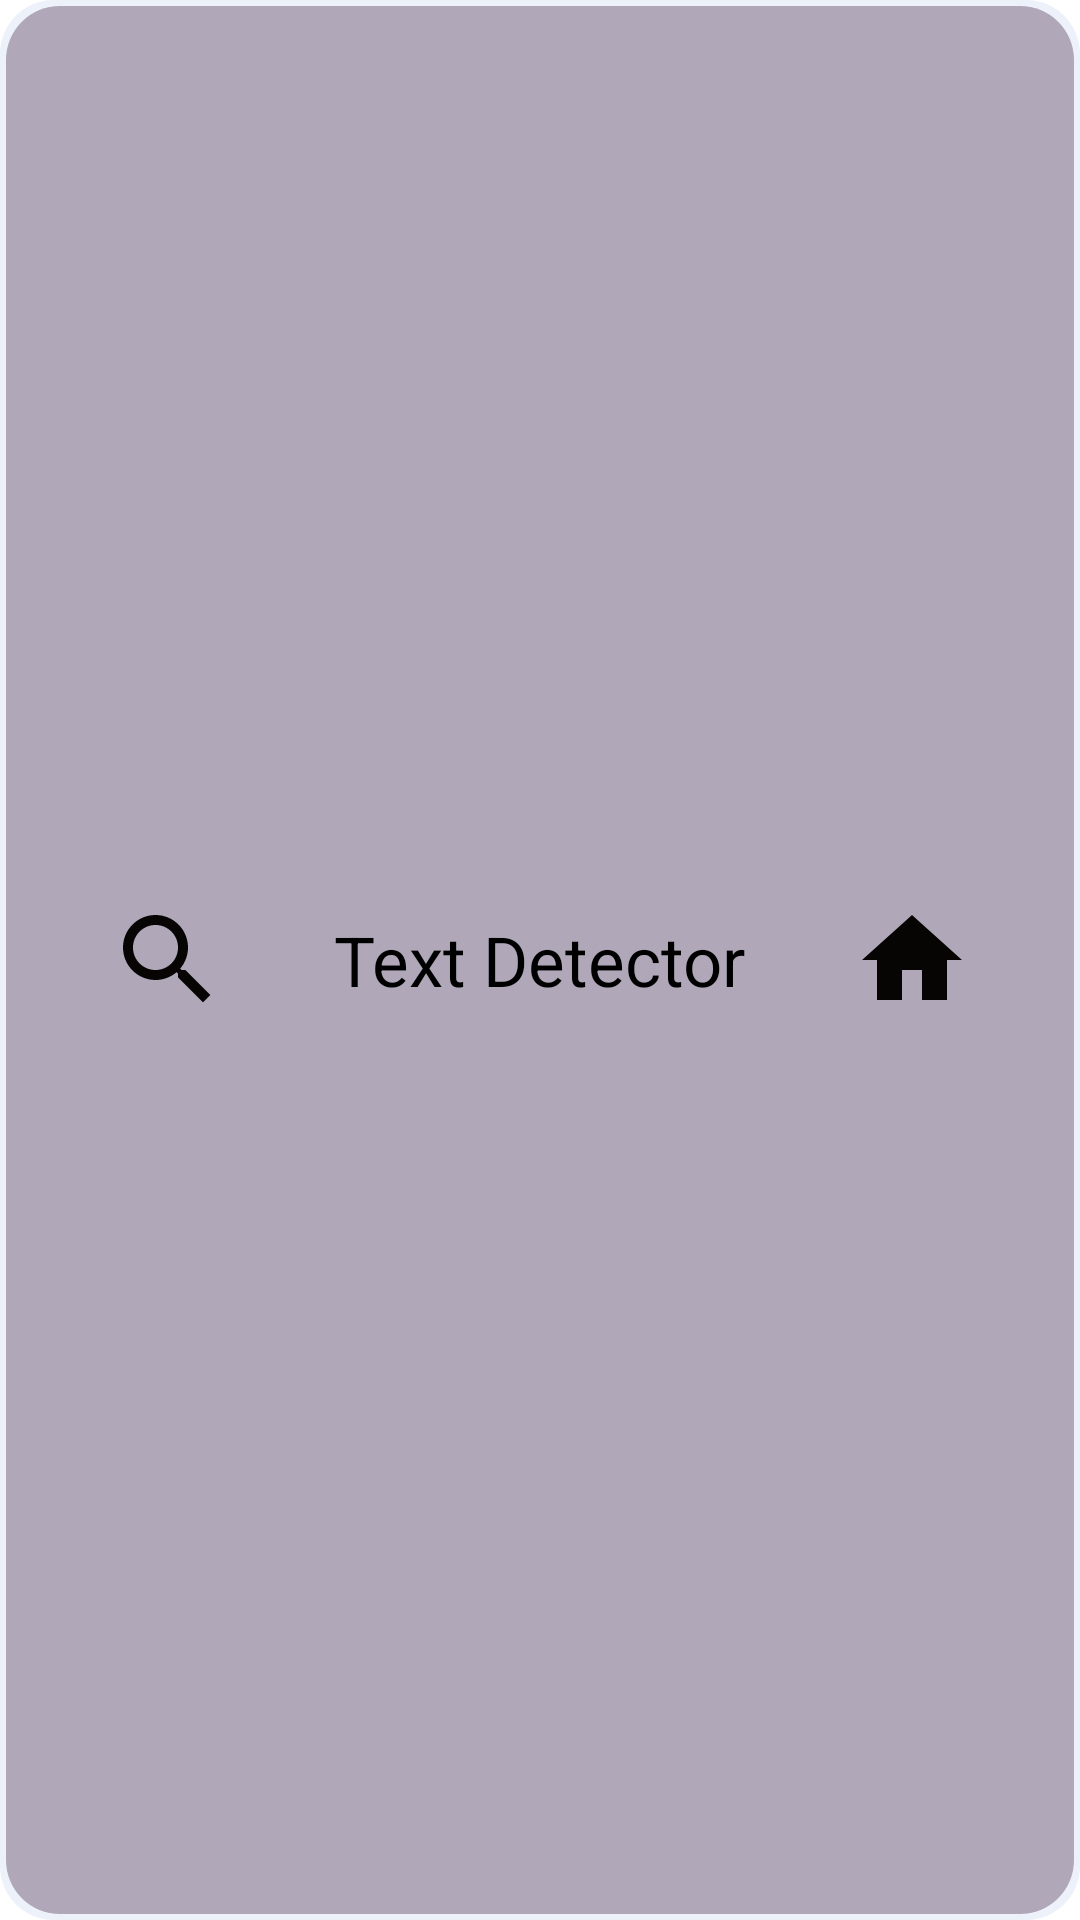

Screen size 1080px×1920px. Icon name, then its center in pixels as point (x, y):
home: point (912, 957)
search: point (166, 958)
